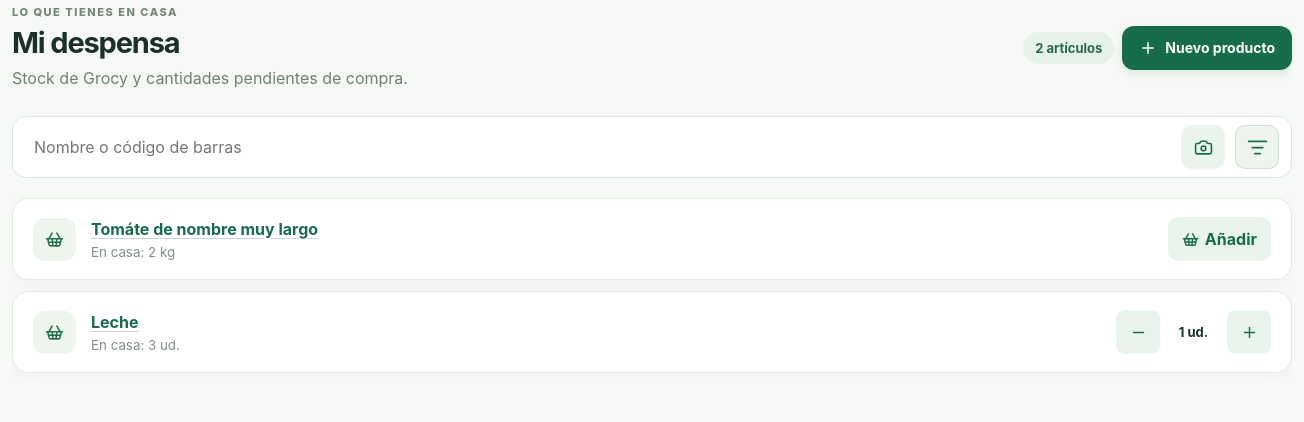
Test: inventory interactions › keeps the cart and exposes an inline error after a failed write
What coordinates should you click on to do the following:
click the button "Añadir"
I would click on:
 (1219, 239)
Its box is [1168,217,1271,261].
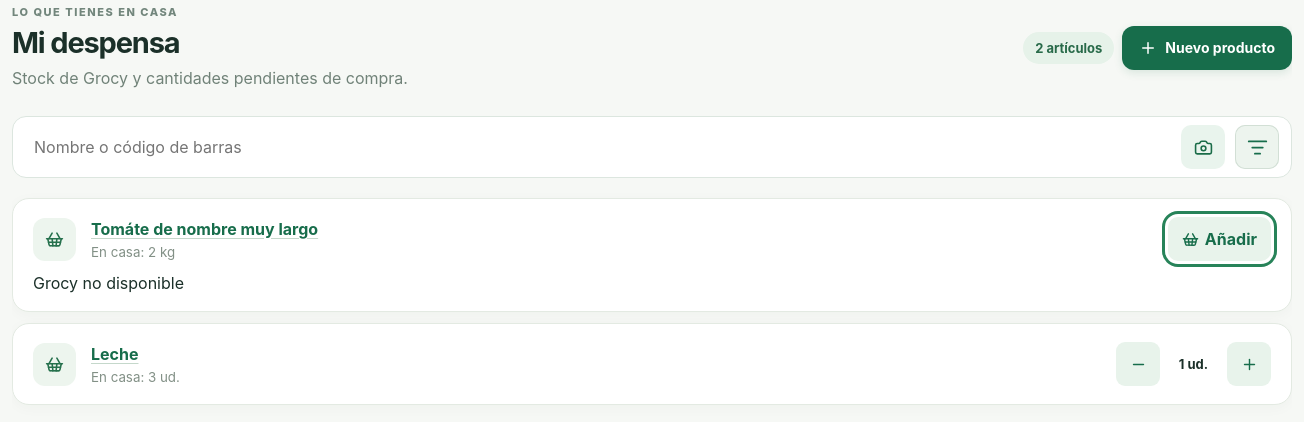
expect the message reads "Grocy no disponible": met, box [33,273,184,293]
